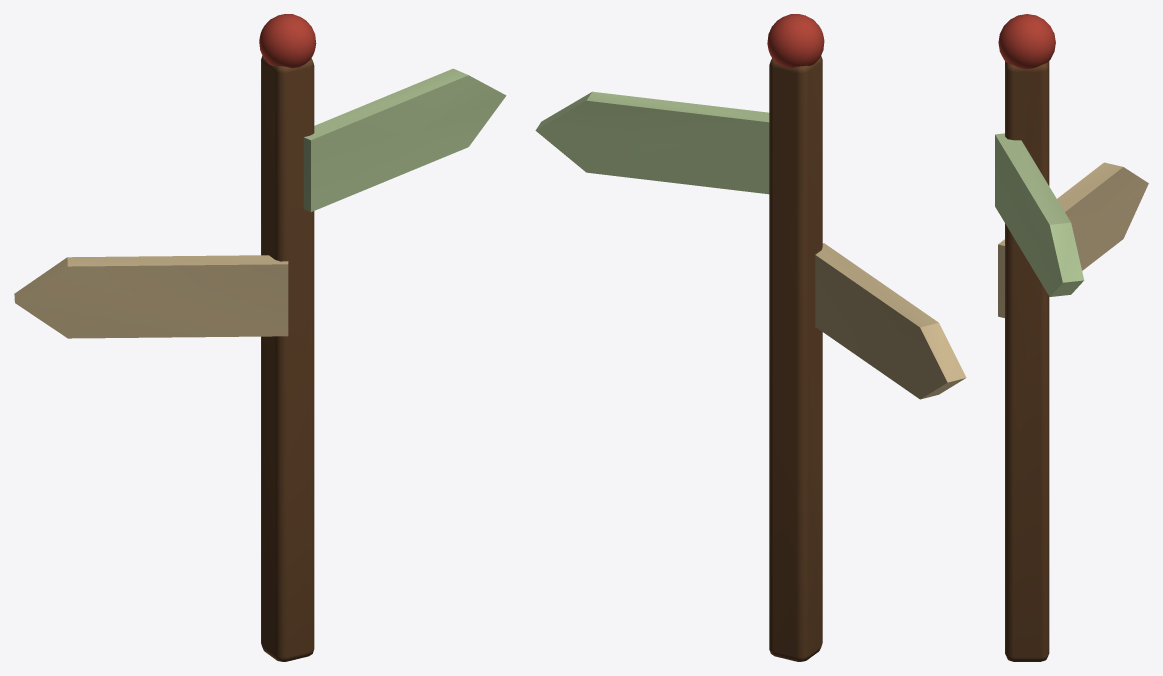
Rendered from signpost_camp.glb.
The picture shows the model from 3 angles, left to right: view 1: azimuth 30°, elevation 25°; view 2: azimuth 150°, elevation 25°; view 3: azimuth 270°, elevation 25°; orthographic projection.
Parts seen in each view (by area): view 1: signpost_camp_main; view 2: signpost_camp_main; view 3: signpost_camp_main.
Boxes of the visible parts, left/top/right/bottom form: signpost_camp_main: left=14, top=14, right=506, bottom=661; signpost_camp_main: left=535, top=14, right=966, bottom=661; signpost_camp_main: left=995, top=14, right=1148, bottom=661.
Size of the model in its own units: 1.2 by 1.6 by 0.348.
